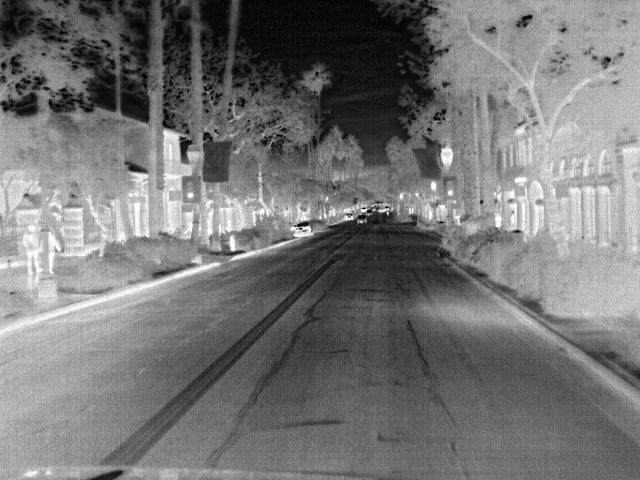car: (289, 221, 312, 237), (355, 213, 367, 225), (343, 212, 354, 220)
person: (21, 223, 44, 275), (45, 228, 60, 273), (493, 212, 502, 230)
